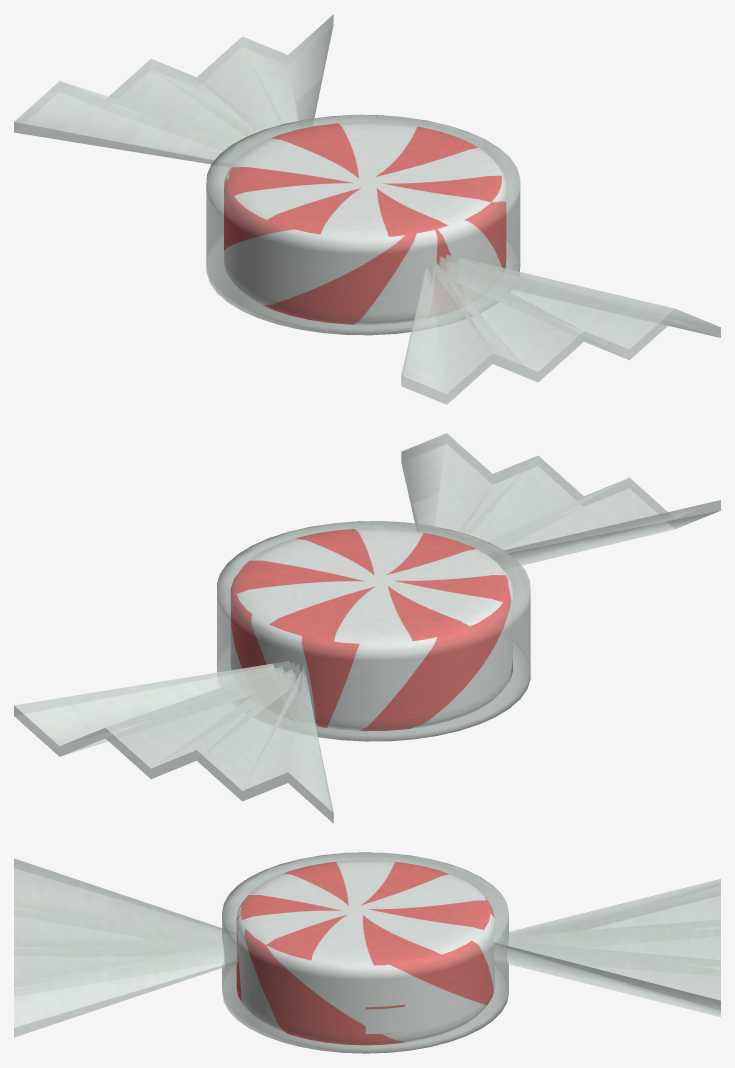
Rendered from mint.fbx.
The picture shows the model from 3 angles, top to bottom: view 1: azimuth 30°, elevation 25°; view 2: azimuth 150°, elevation 25°; view 3: azimuth 270°, elevation 25°; orthographic projection. The views are drawn at different scales.
Parts seen in each view (by area): view 1: pCylinder2, pCylinder1, pCube1, pCube2; view 2: pCylinder2, pCylinder1, pCube1, pCube2; view 3: pCylinder2, pCylinder1, pCube2, pCube1.
Boxes of the visible parts, <box> form: pCylinder2: <box>206,114,520,335</box>; pCylinder1: <box>224,122,505,324</box>; pCube1: <box>14,14,333,166</box>; pCube2: <box>401,255,720,404</box>; pCylinder2: <box>217,521,530,741</box>; pCylinder1: <box>231,528,512,730</box>; pCube1: <box>14,661,333,823</box>; pCube2: <box>401,433,720,569</box>; pCylinder2: <box>222,852,508,1053</box>; pCylinder1: <box>237,860,494,1044</box>; pCube2: <box>14,858,237,1037</box>; pCube1: <box>494,879,720,1017</box>.
Bounding box in the file's own units: 7.41 × 2.24 × 15.54.
